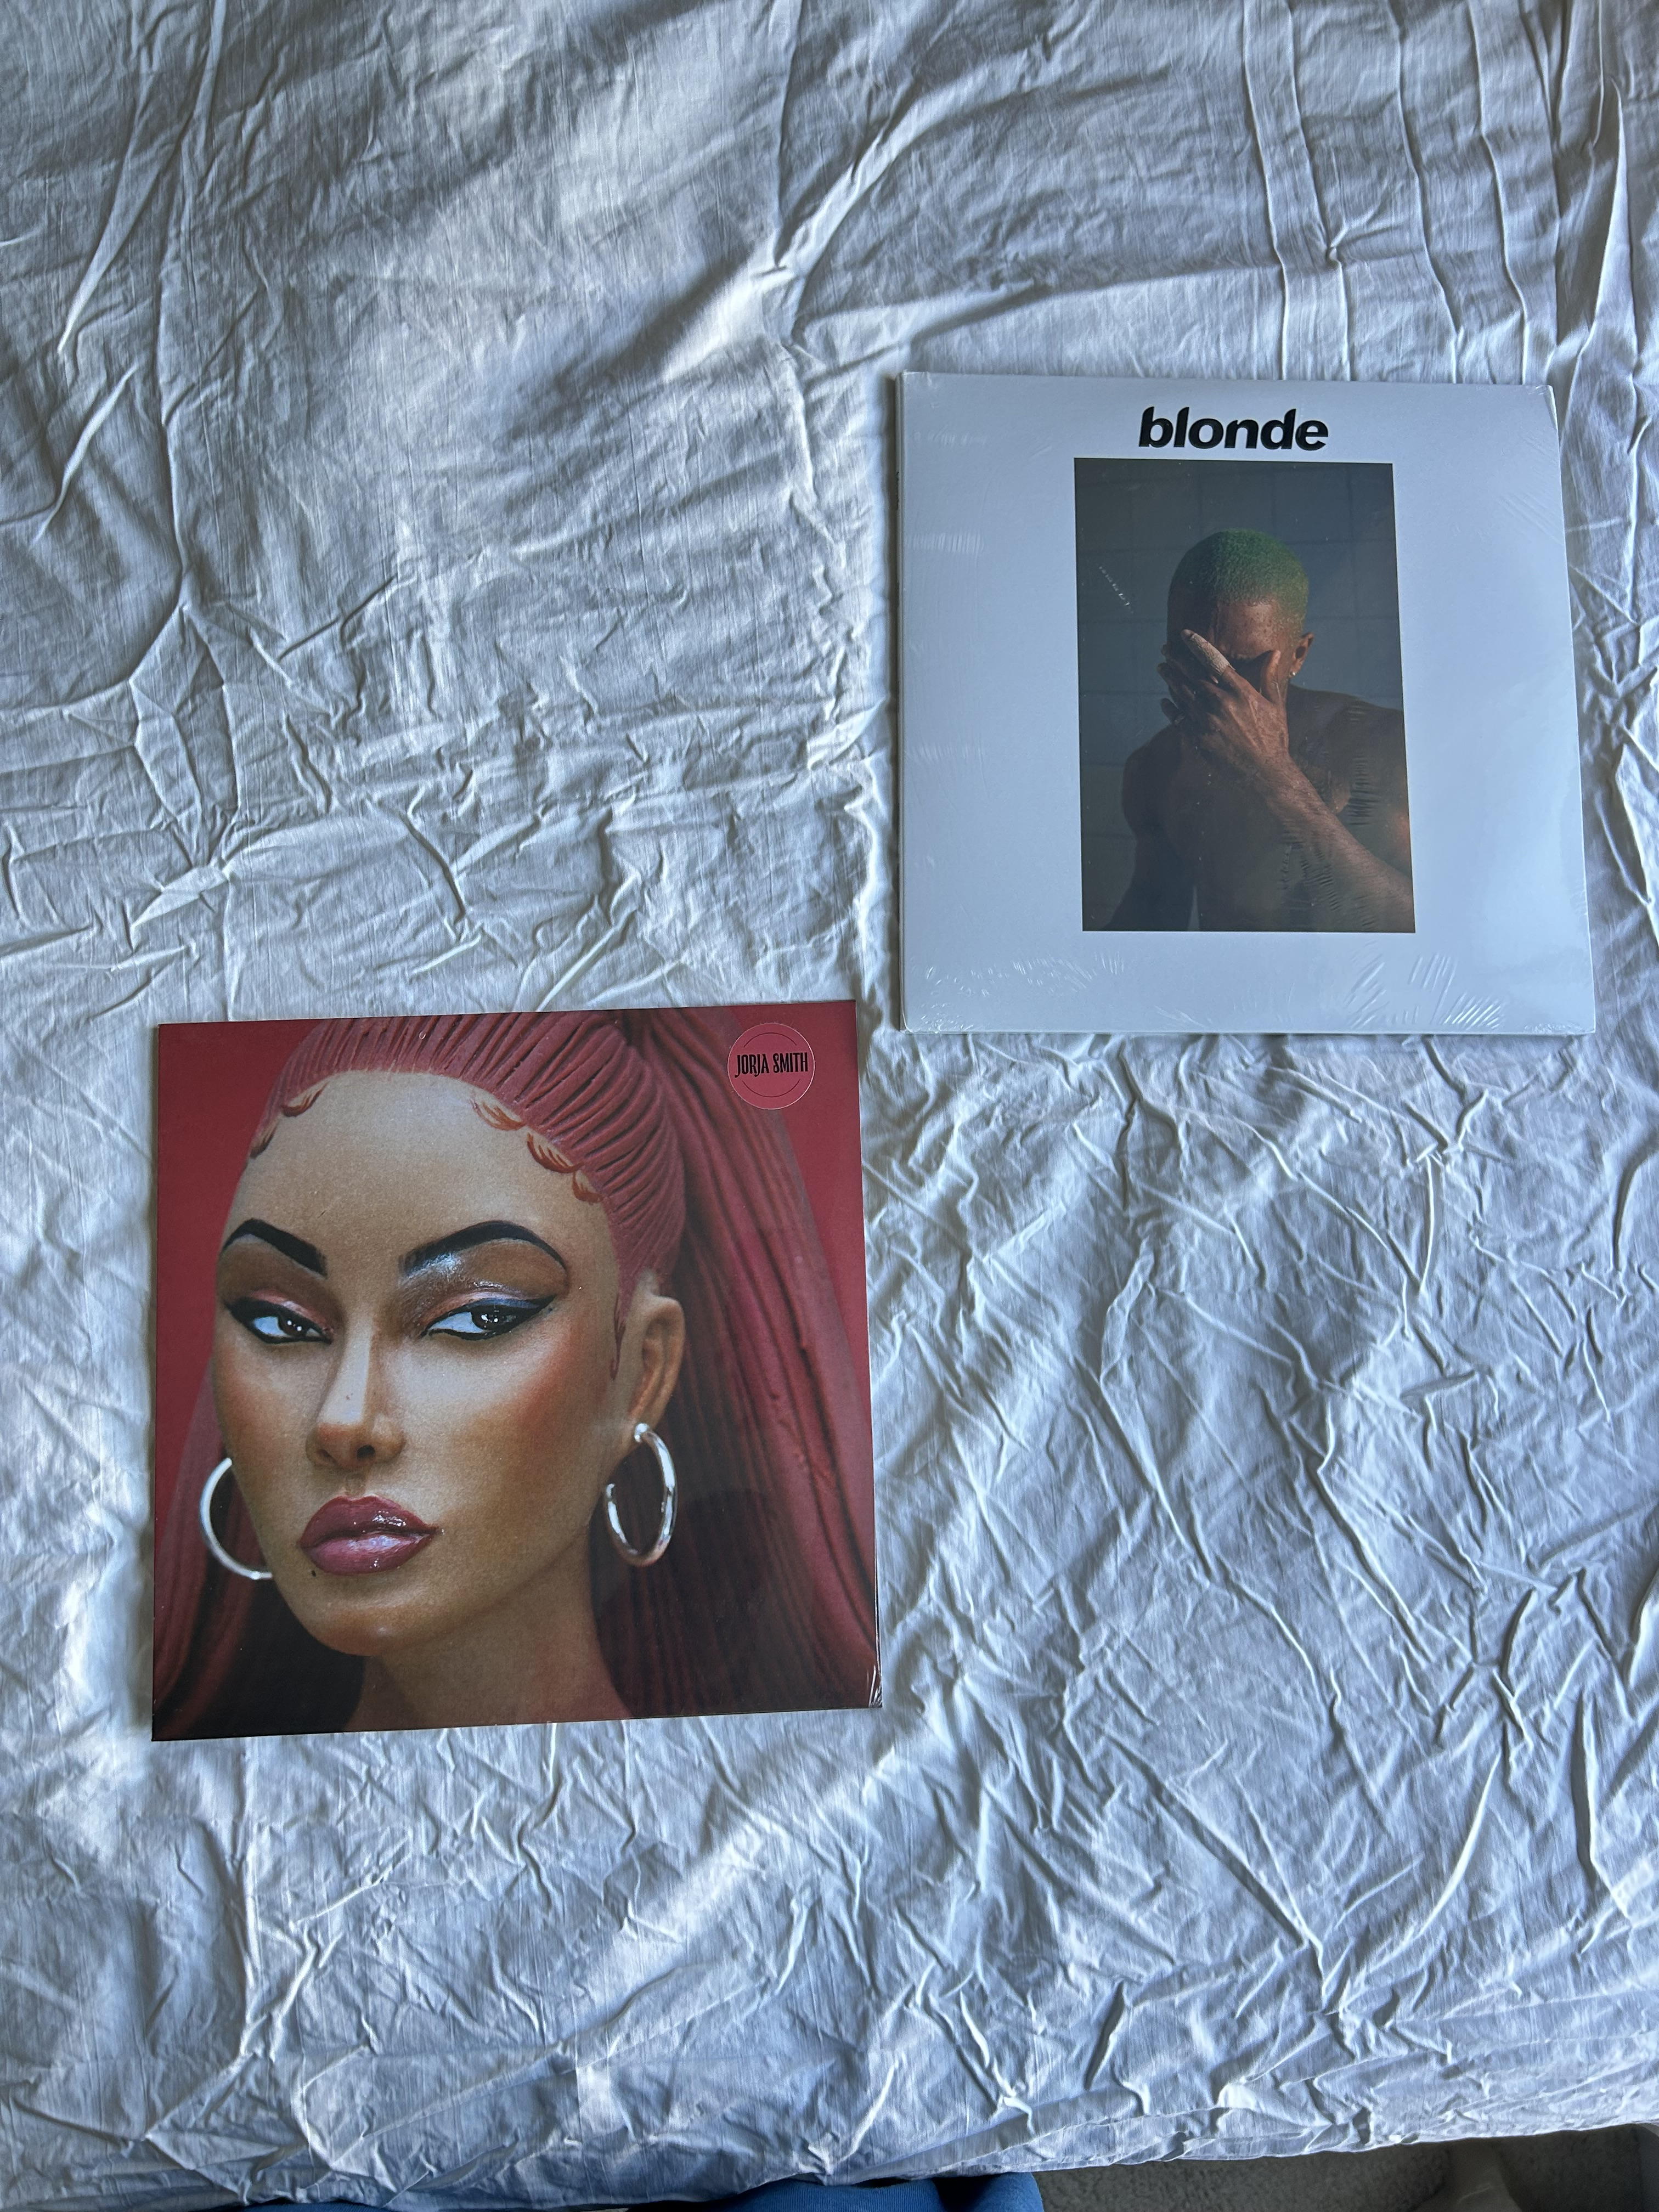frank ocean_blonde: (884, 373, 1567, 1054)
jorja smith_be right back: (136, 1017, 871, 1742)
